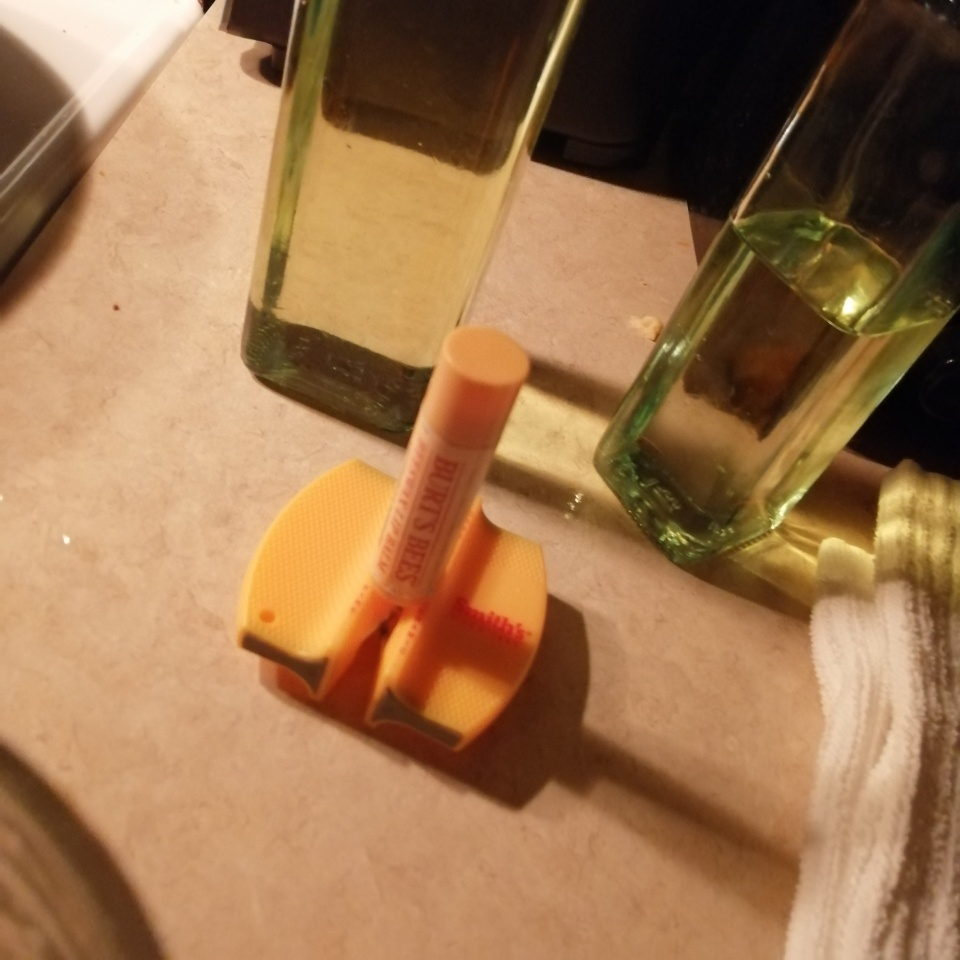chapstick: (369, 326, 531, 605)
